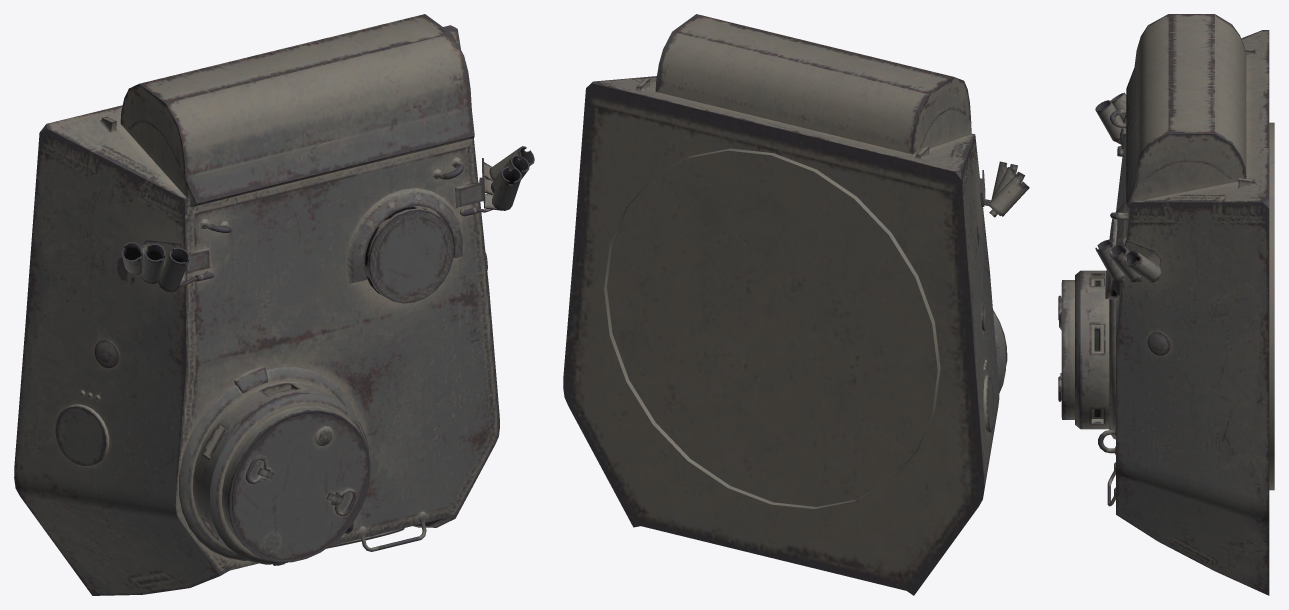
File: Turret_02.glb
The picture shows the model from 3 angles, left to right: view 1: azimuth 30°, elevation 25°; view 2: azimuth 150°, elevation 25°; view 3: azimuth 270°, elevation 25°; orthographic projection. The views are drawn at different scales.
Parts seen in each view (by area): view 1: set_0_group_0; view 2: set_0_group_0; view 3: set_0_group_0.
Boxes of the visible parts, left/top/right/bottom form: set_0_group_0: left=14, top=14, right=534, bottom=595; set_0_group_0: left=563, top=14, right=1029, bottom=595; set_0_group_0: left=1058, top=14, right=1274, bottom=595.
Size of the model in its own units: 2.33 by 2.53 by 1.09.
1 material, 1 textured.
